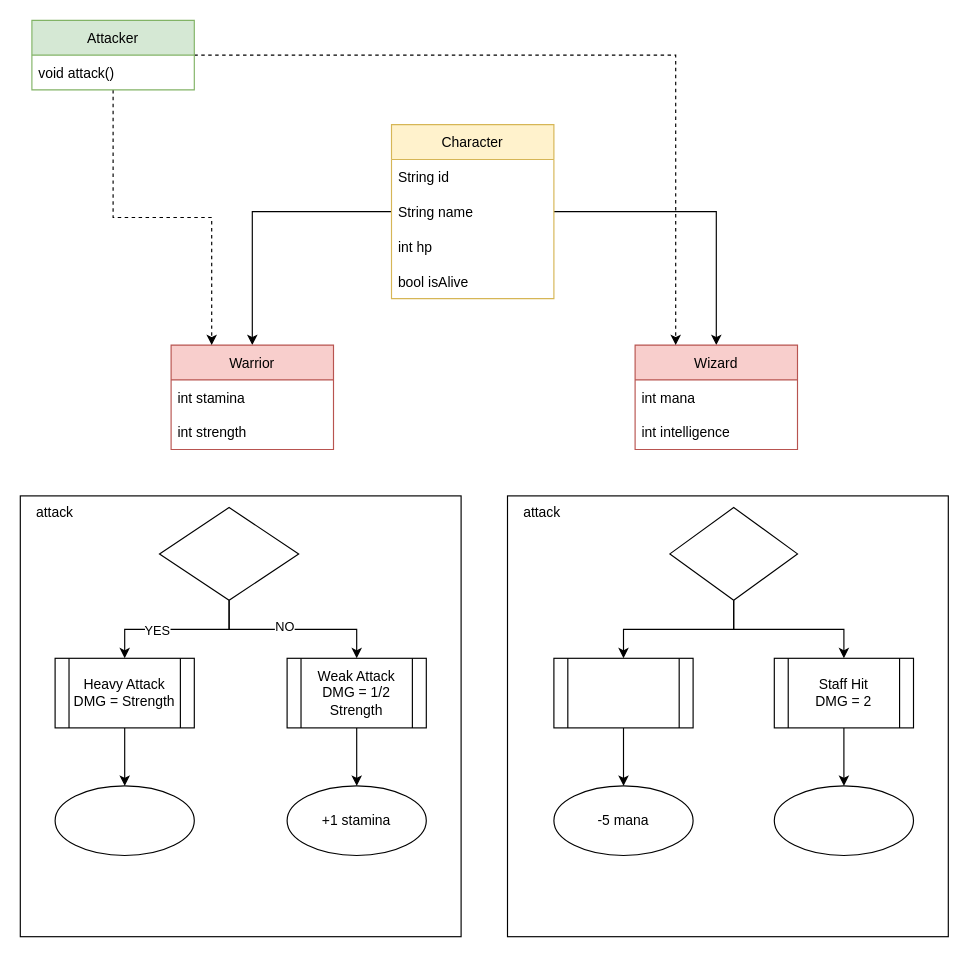
Image size: 969x957. Some labels were removed from this diagram. Each missing label, with the centre of its shape:
"+1 mana" belongs at point (843, 820).
"-5 stamina" belongs at point (124, 820).
"Fireball DMG = intelligence" belongs at point (623, 692).
"has 5 mana" belongs at point (733, 553).
"has 5 stamina?" belongs at point (228, 553).
